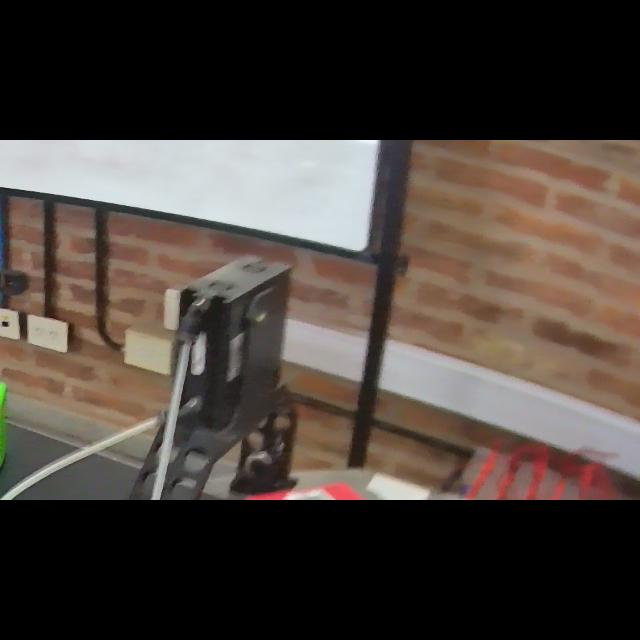greenBox: (0, 374, 14, 478)
redBox: (226, 478, 382, 499)
